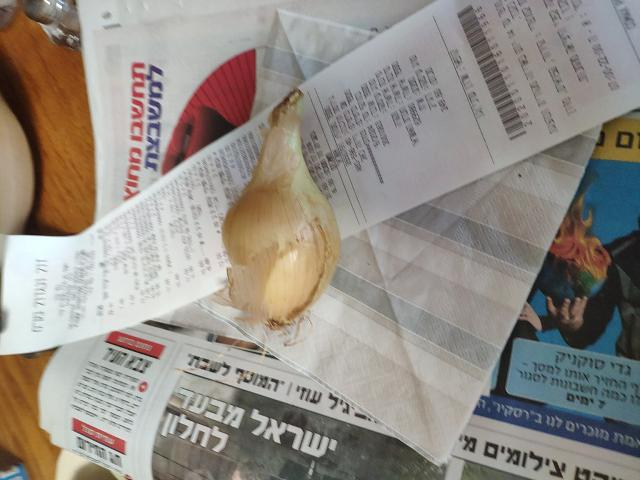onion: (231, 106, 336, 312)
